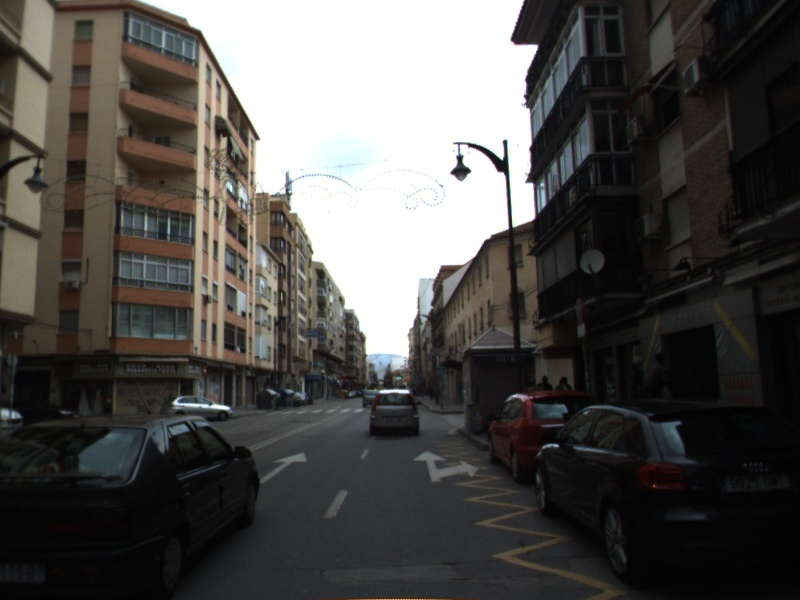STRAIGHT: (258, 450, 309, 484)
STRAIGHT_RIGHT: (411, 448, 481, 483)
